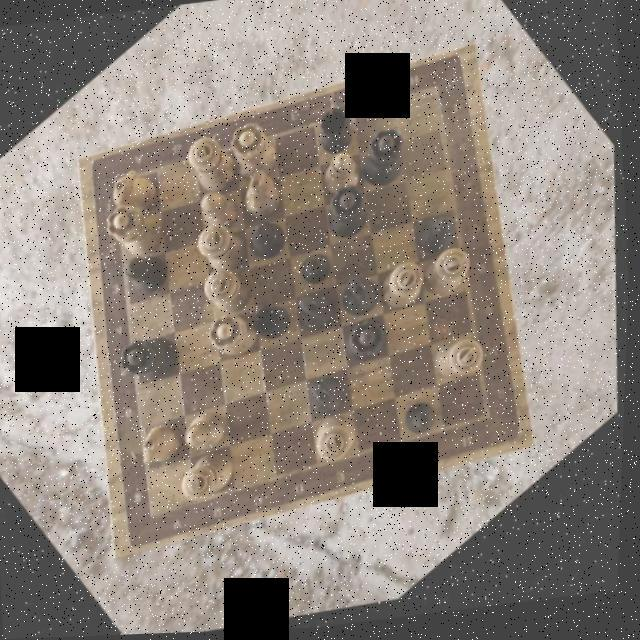chess-table-corners: (464, 394, 522, 450), (136, 492, 186, 542), (100, 163, 148, 211), (416, 74, 460, 115)
